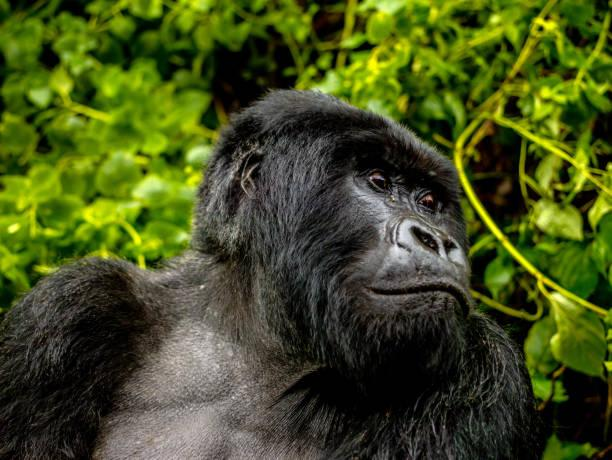goriile_montagne: (0, 70, 555, 460)
